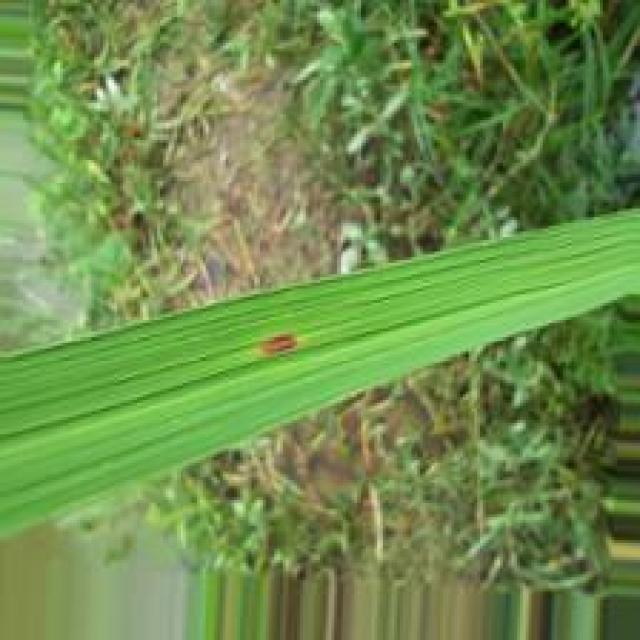Brown_Spot: (257, 328, 305, 362)
